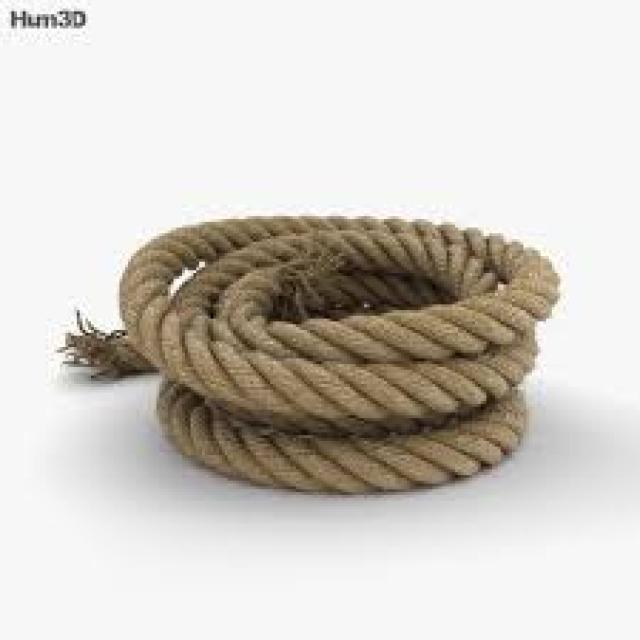rope: (65, 216, 563, 498)
